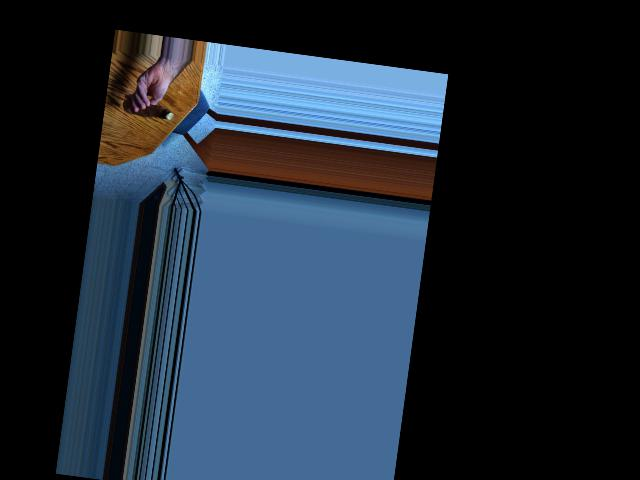sweet_potato: (130, 103, 175, 119)
